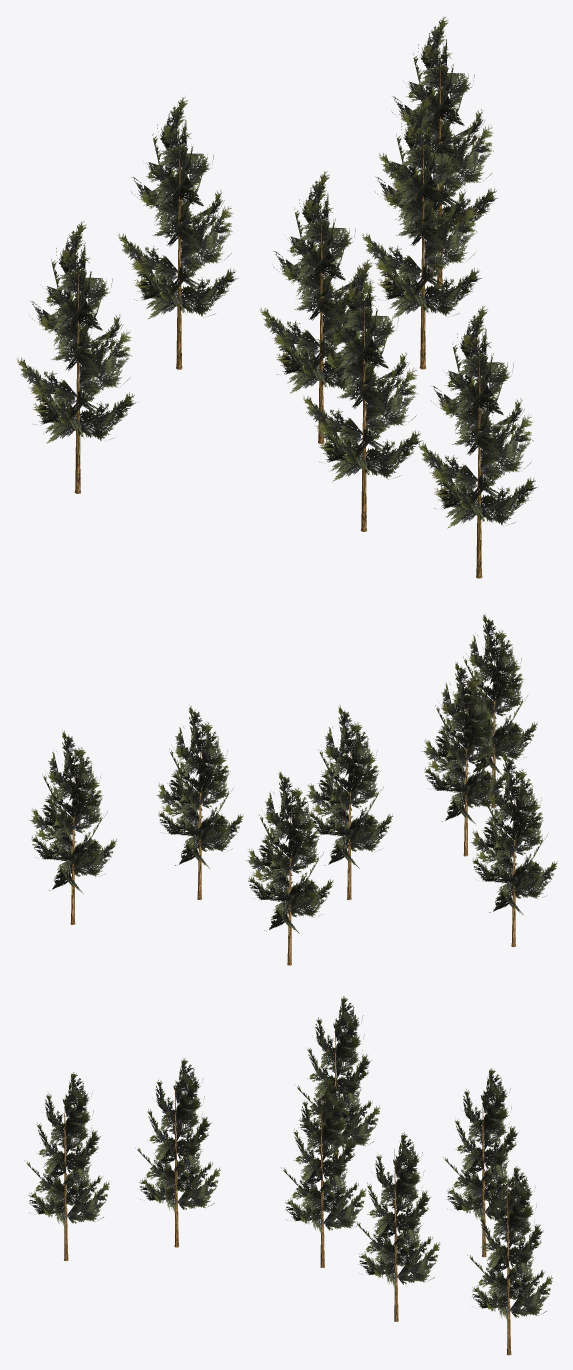
Rendered from Trees M.fbx.
The picture shows the model from 3 angles, top to bottom: view 1: azimuth 30°, elevation 25°; view 2: azimuth 150°, elevation 25°; view 3: azimuth 270°, elevation 25°; orthographic projection. The views are drawn at different scales.
Visible parts, largest first — view 1: Trees; view 2: Trees; view 3: Trees.
Part boxes in pixels (x1,y1,x2,y2): Trees: [17, 16, 538, 578]; Trees: [29, 614, 557, 965]; Trees: [24, 996, 552, 1355].
Size of the model in its own units: 4679 by 1973 by 5030.
Materials: 2 (2 with a texture image).
